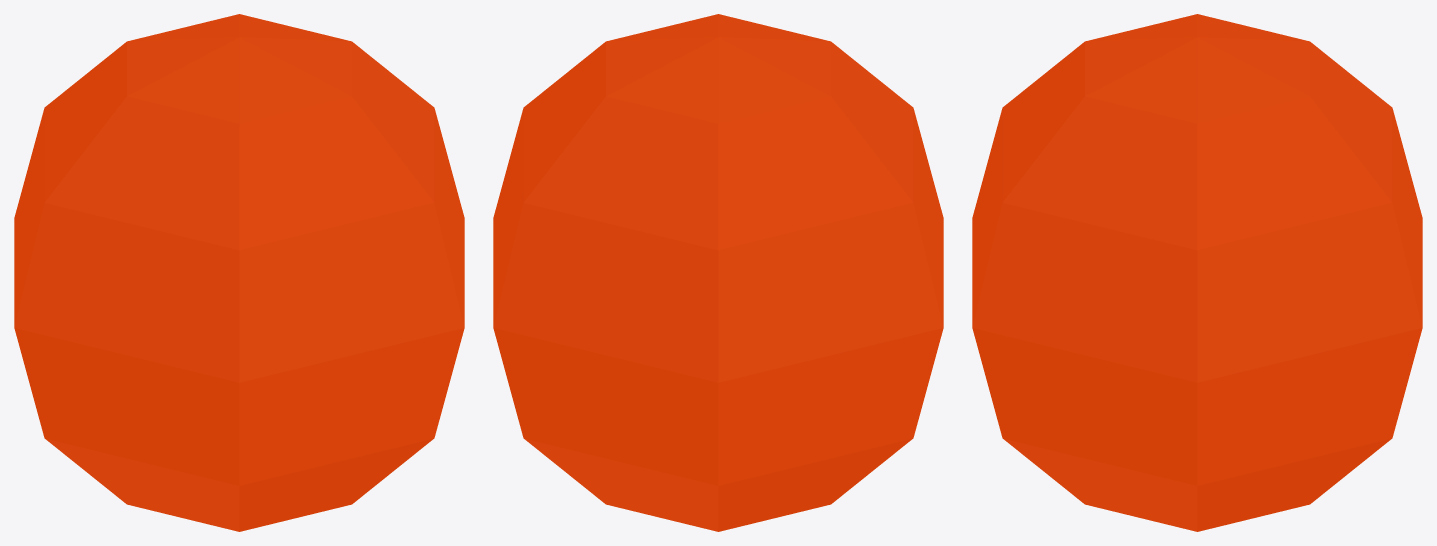
File: Plasmatic 1.fbx
3 renders of one model, left to right at view 1: azimuth 30°, elevation 25°; view 2: azimuth 150°, elevation 25°; view 3: azimuth 270°, elevation 25°, orthographic.
Parts seen in each view (by area): view 1: polySurface1; view 2: polySurface1; view 3: polySurface1.
Boxes of the visible parts, <box> form: polySurface1: <box>14,14,464,531</box>; polySurface1: <box>493,14,943,531</box>; polySurface1: <box>972,14,1422,531</box>.
Size of the model in its own units: 2 by 2 by 1.73.
